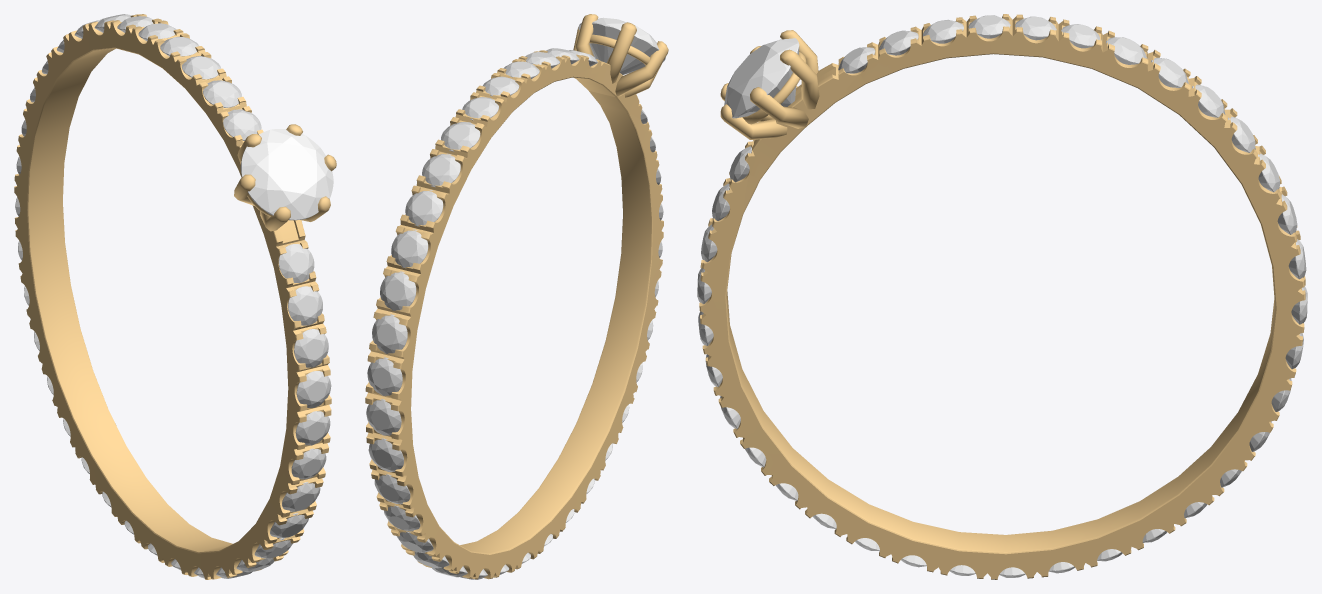
File: MoissaniteRing.glb
3 views of the same model, side by side, from view 1: azimuth 30°, elevation 25°; view 2: azimuth 150°, elevation 25°; view 3: azimuth 270°, elevation 25° (orthographic). The views are drawn at different scales.
Parts seen in each view (by area): view 1: MoissaniteRing; view 2: MoissaniteRing; view 3: MoissaniteRing.
Part boxes in pixels (x1,y1,x2,y2): MoissaniteRing: (14, 14, 336, 579); MoissaniteRing: (365, 14, 668, 579); MoissaniteRing: (697, 14, 1307, 579).
Size of the model in its own units: 3.34 by 17.47 by 17.46.
3 materials, 1 textured.
